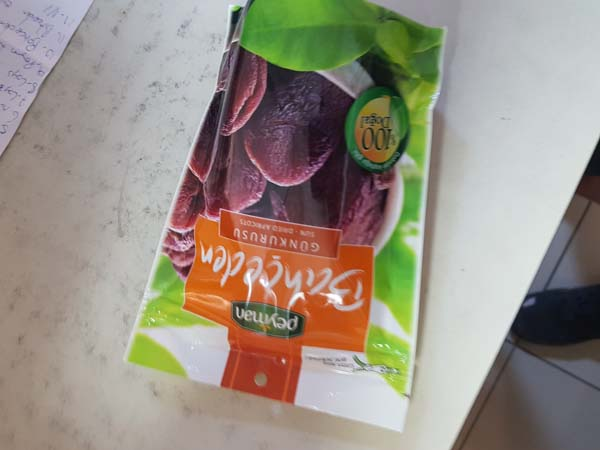bahcedengunkurusu: (124, 1, 450, 422)
